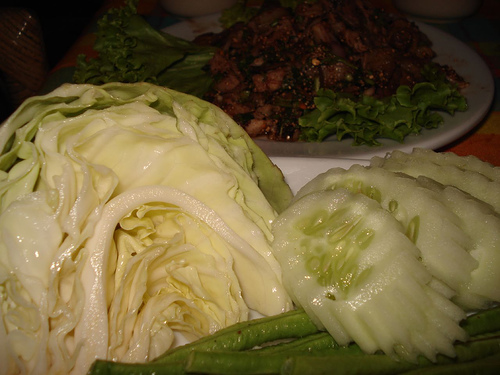cucumber: (270, 191, 433, 360), (290, 162, 480, 300)
